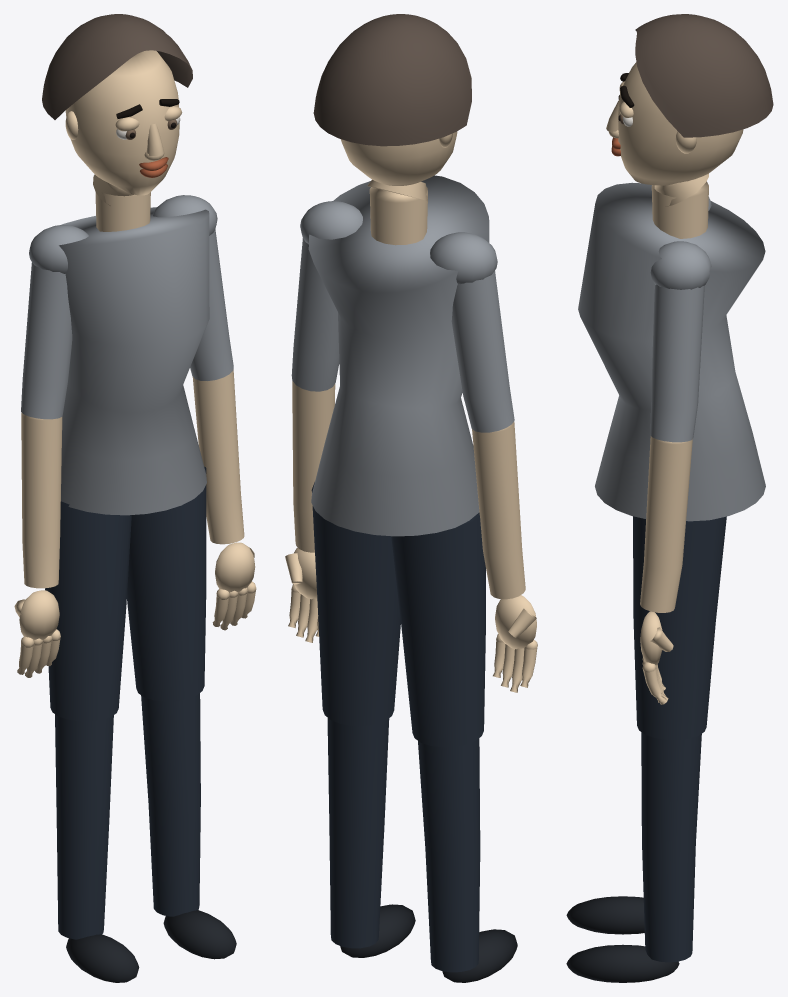
3 views of the same model, side by side, from view 1: azimuth 30°, elevation 25°; view 2: azimuth 150°, elevation 25°; view 3: azimuth 270°, elevation 25° (orthographic). The views are drawn at different scales.
Visible parts, largest first — view 1: tarek_fig, tarek_head; view 2: tarek_fig, tarek_head; view 3: tarek_fig, tarek_head.
Part boxes in pixels (x1=…): tarek_fig: x1=14, y1=192, x2=256, y2=982; tarek_head: x1=42, y1=14, x2=192, y2=205; tarek_fig: x1=285, y1=175, x2=537, y2=982; tarek_head: x1=313, y1=14, x2=471, y2=201; tarek_fig: x1=566, y1=181, x2=765, y2=982; tarek_head: x1=606, y1=14, x2=773, y2=206.
Bounding box in the file's own units: 0.4766 × 1.75 × 0.3512.
